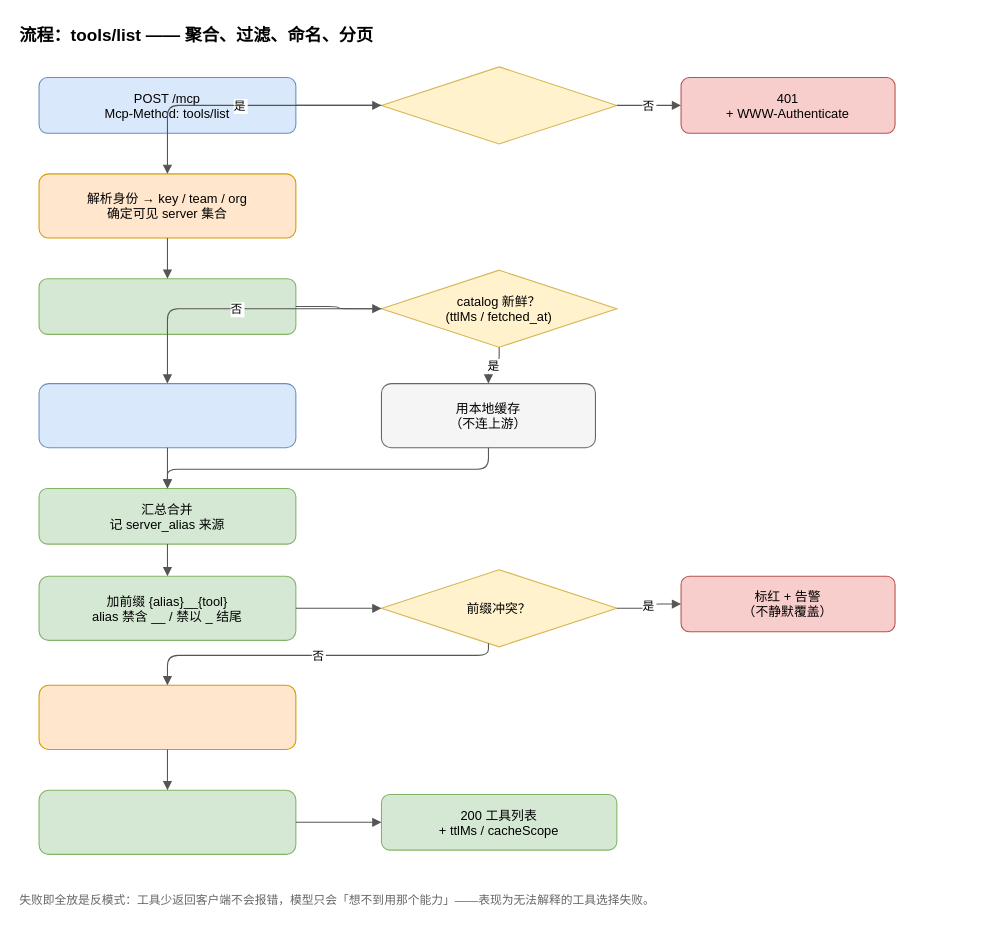
This 998x932 diagram has some shape labels left out. The box of each missing label's shape, as (x1, y1, x2, y2) in pixels:
取 enabled 的 mcp_servers ∩ 授权集合: (38, 278, 296, 334)
对每个 server 调上游 tools/list （带解密后的凭据）: (38, 383, 296, 448)
稳定排序（按 alias, tool） → 分页 nextCursor: (38, 789, 296, 854)
认证 virtual key 有效？: (380, 66, 617, 144)
逐工具 ACL 过滤 （key / team / org 维度）: (38, 684, 296, 750)
